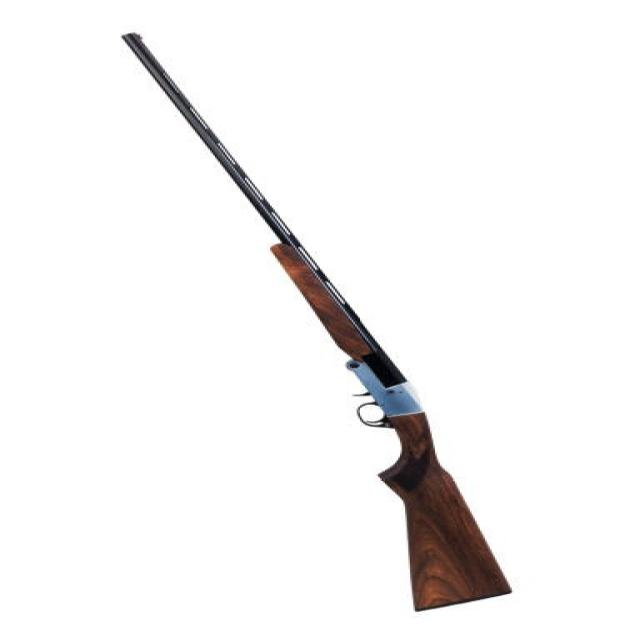rifle: (118, 24, 544, 619)
